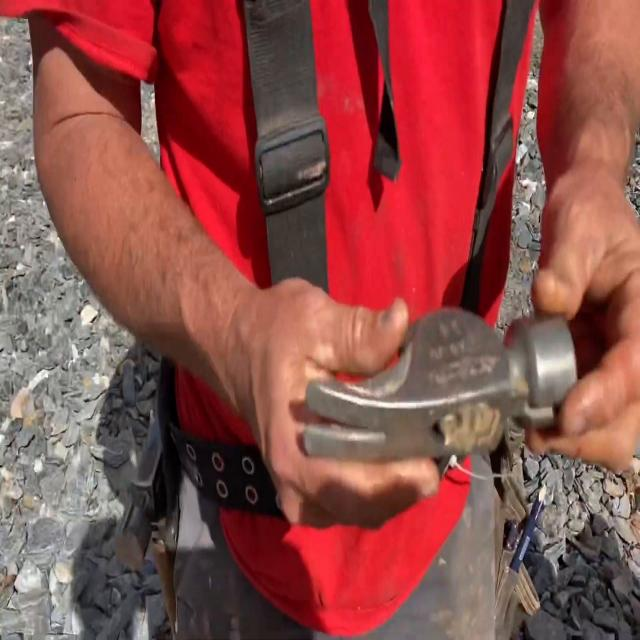hammer: (302, 312, 575, 458)
